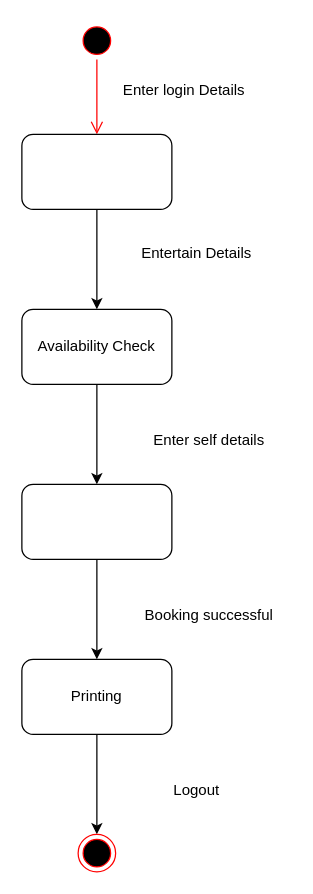
This 313x894 diagram has some shape labels left out. Each missing label, with the centre of its shape:
"Booking Ticket" belongs at pixel 96 521.
"Validation" belongs at pixel 96 171.
